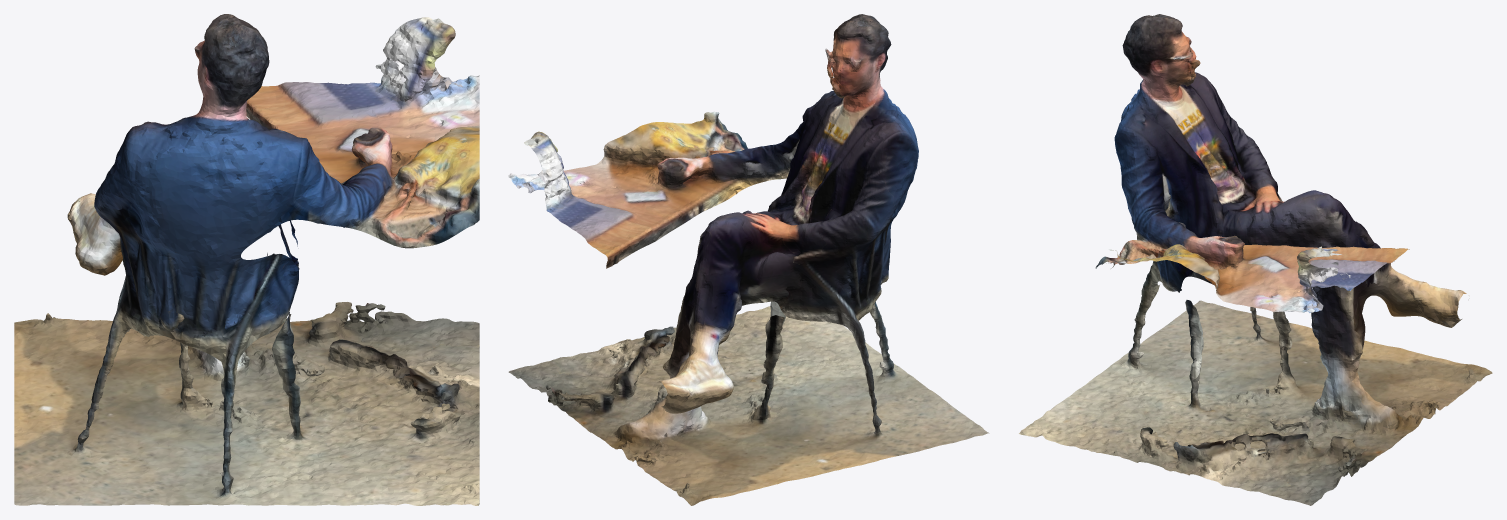
Rendered from mbo_friends_Sam.glb.
3 renders of one model, left to right at view 1: azimuth 30°, elevation 25°; view 2: azimuth 150°, elevation 25°; view 3: azimuth 270°, elevation 25°, orthographic. The views are drawn at different scales.
Bounding box in the file's own units: 1.77 × 1.45 × 1.73.
Materials: 1 (1 with a texture image).
